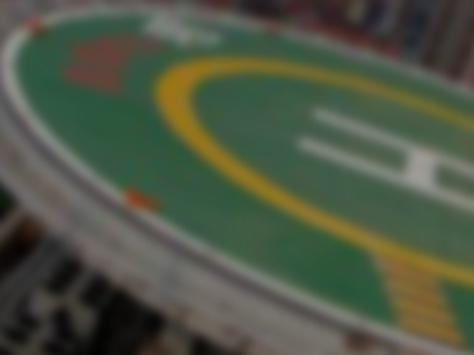Apron: (150, 50, 474, 291)
